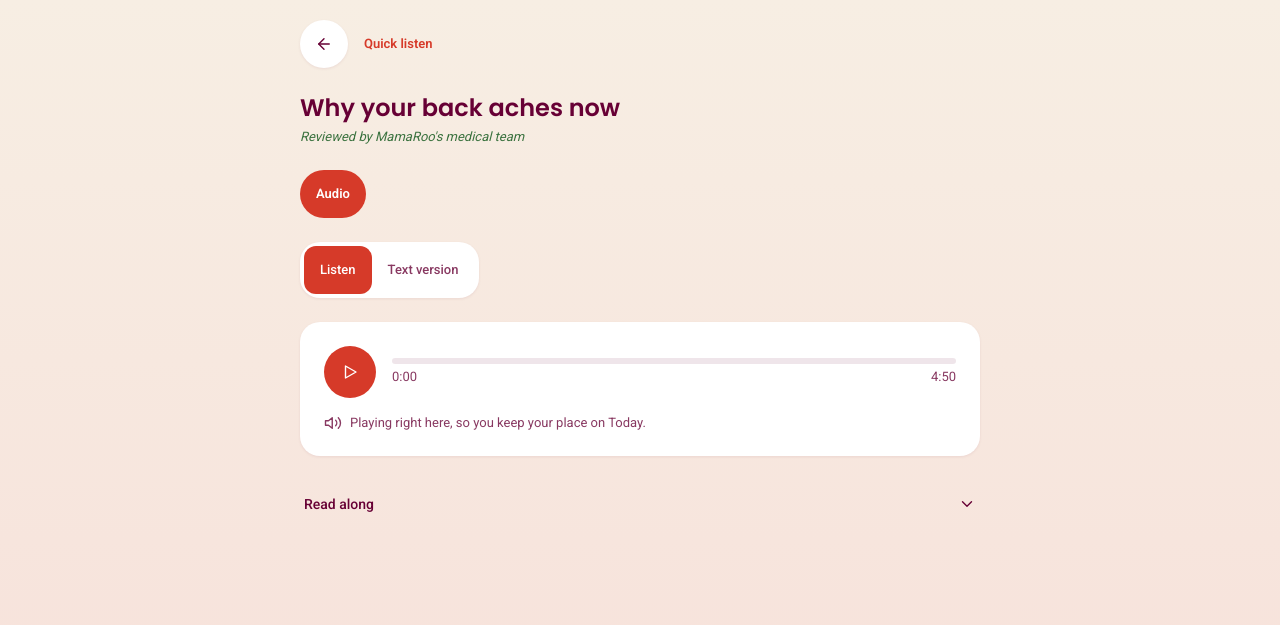
ContentDetail › renders the custom audio player and reveals an available read-along transcript
Expected: the button named "Play audio" is shown, [324,346,376,398]
Expected: the text "Playing right here, so you keep your place on Today." is shown, [324,414,646,432]
Click the button "Read along": (339, 504) [300,480,980,528]
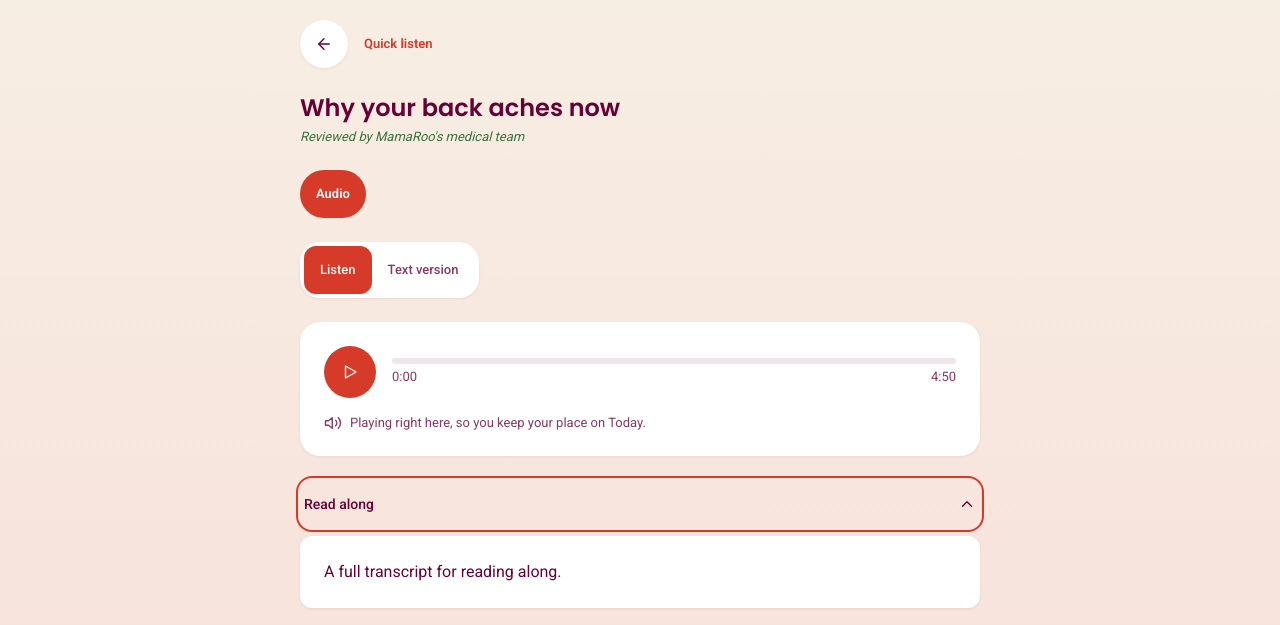
Expected: the text "A full transcript for reading along." is shown, [324,562,562,581]
